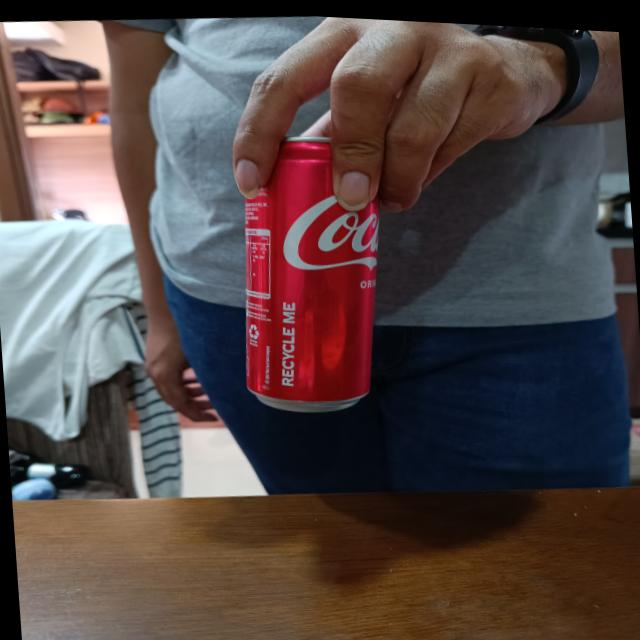coke: (226, 124, 392, 412)
